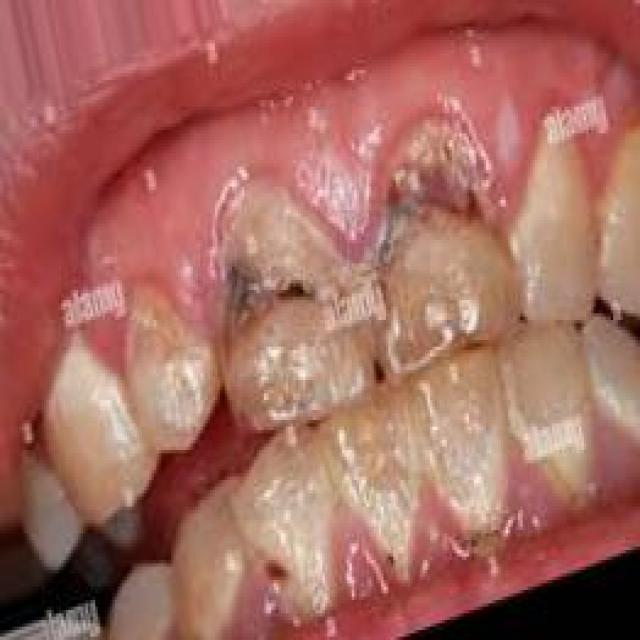caries: (357, 115, 501, 276), (212, 237, 332, 363)
